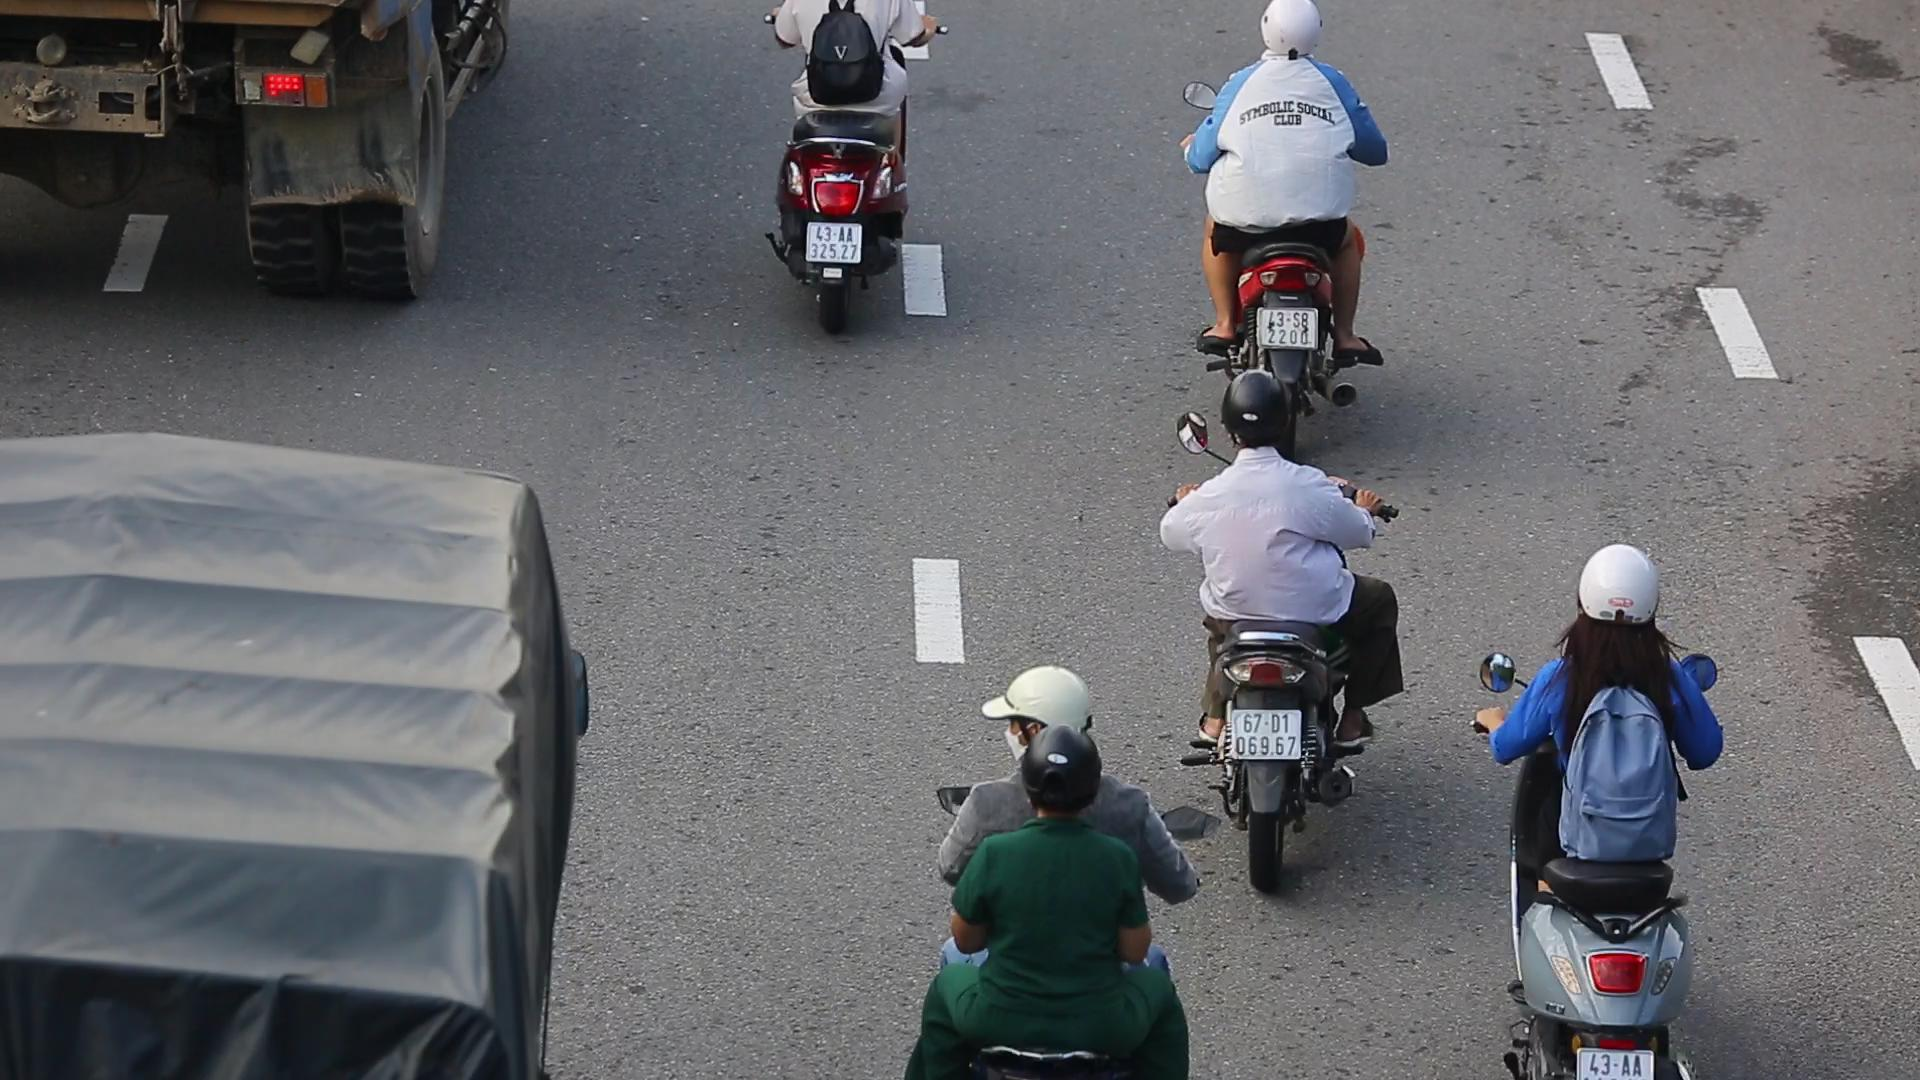motobike: (1163, 361, 1396, 884), (1176, 0, 1407, 368)
